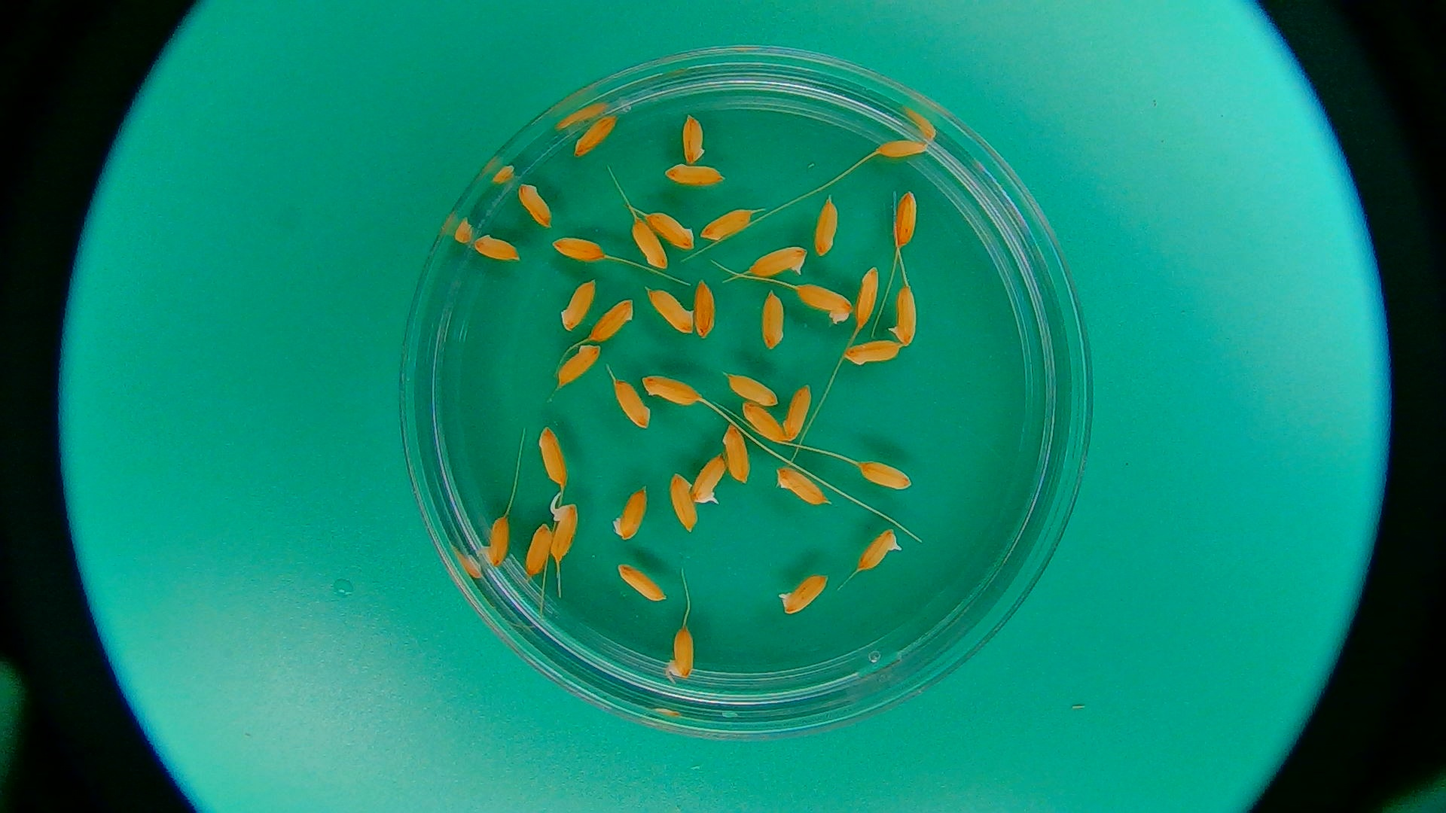no: (771, 464, 837, 509), (740, 400, 790, 449), (630, 215, 671, 273), (792, 282, 851, 322), (642, 208, 695, 252), (782, 381, 819, 443), (650, 288, 695, 338), (780, 571, 828, 617), (535, 425, 569, 486), (856, 455, 912, 492), (609, 380, 653, 427), (556, 342, 600, 389), (748, 247, 811, 279), (585, 298, 633, 340), (701, 207, 756, 243), (573, 113, 617, 158), (611, 484, 648, 537), (618, 564, 665, 604), (642, 376, 700, 408), (668, 473, 698, 534), (725, 369, 778, 403), (524, 521, 554, 581), (480, 512, 511, 570), (758, 289, 787, 351), (561, 279, 596, 330), (813, 199, 843, 258), (468, 233, 523, 265), (894, 190, 923, 248), (553, 233, 606, 263), (517, 184, 552, 229), (844, 340, 900, 368), (724, 425, 749, 486), (694, 277, 719, 337), (856, 266, 880, 327), (666, 163, 724, 188), (877, 136, 929, 163), (682, 112, 708, 165)
yes: (688, 452, 731, 505), (854, 529, 900, 575), (891, 279, 920, 347), (551, 503, 578, 568), (670, 621, 698, 680)
